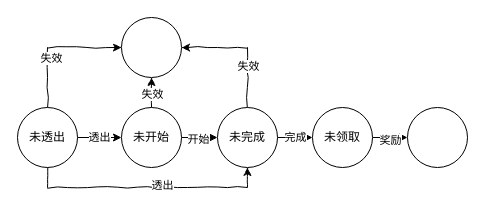
The diagram is 485 pixels wide and 213 high, and some of its shapes have lost their labels. Here are the shapes that lost their labels. From the top down, the centre of each, then its label:
(x=151, y=47): 已失效
(x=437, y=137): 已领取
